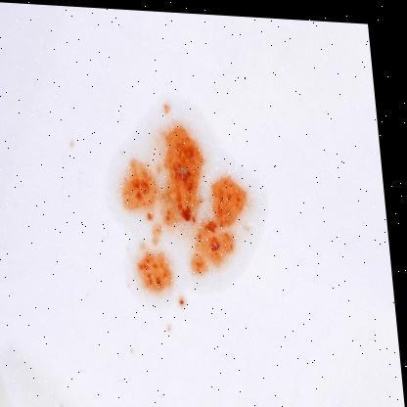kimchi: (116, 101, 260, 311)
